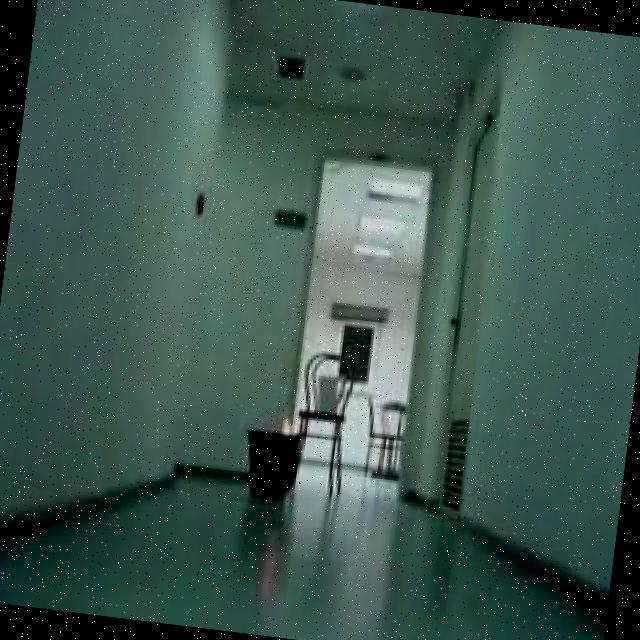Fire: (277, 415, 296, 439)
